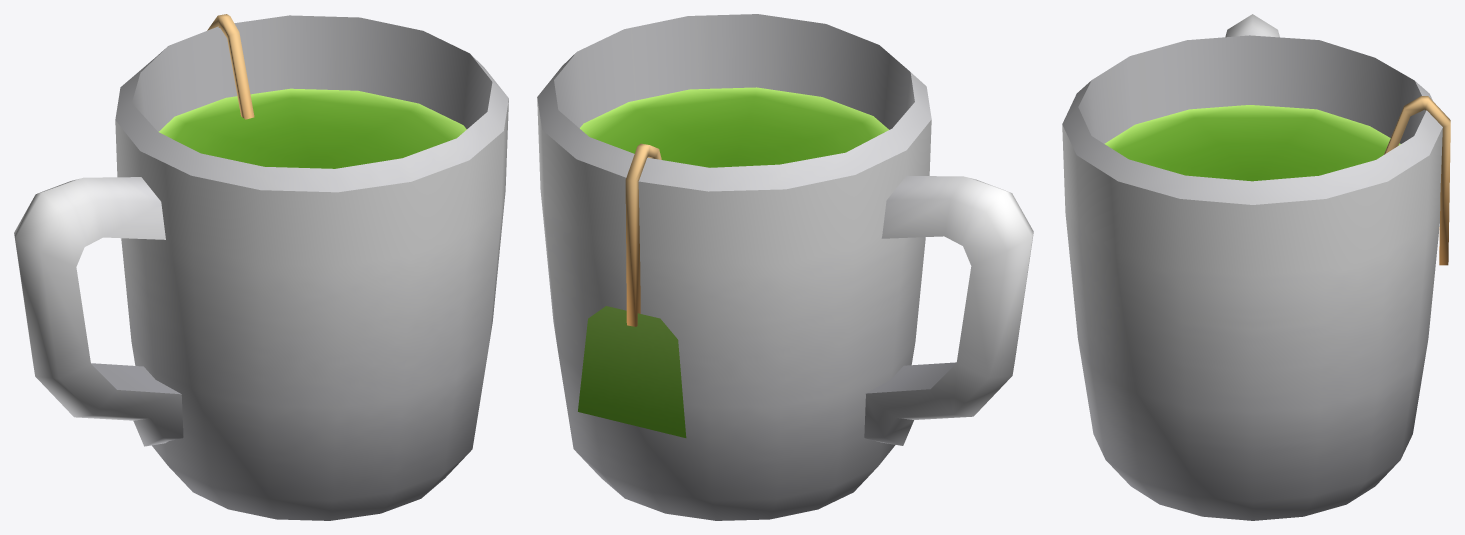
The model's file is m_Mug02_Tea02.fbx.
3 views of the same model, side by side, from view 1: azimuth 30°, elevation 25°; view 2: azimuth 150°, elevation 25°; view 3: azimuth 270°, elevation 25° (orthographic). The views are drawn at different scales.
Visible parts, largest first — view 1: m_Mug02_Tea02; view 2: m_Mug02_Tea02; view 3: m_Mug02_Tea02.
Boxes of the visible parts, x1=… form: m_Mug02_Tea02: x1=14, y1=14, x2=508, y2=520; m_Mug02_Tea02: x1=537, y1=14, x2=1033, y2=520; m_Mug02_Tea02: x1=1062, y1=14, x2=1450, y2=520.
Size of the model in its own units: 15.22 by 11.86 by 11.36.
